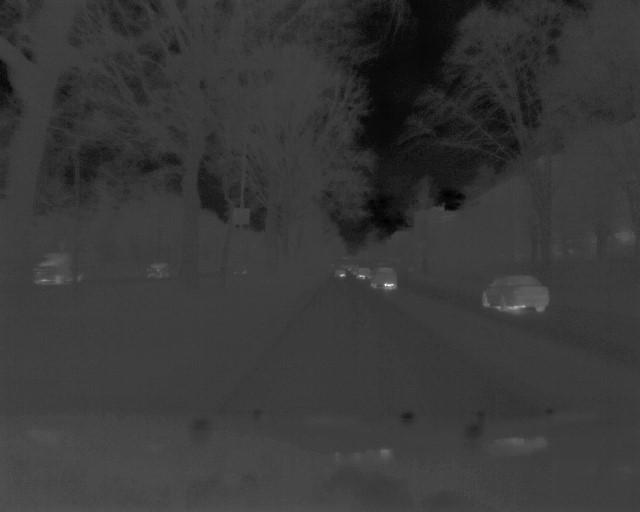car: (477, 268, 553, 315), (26, 246, 92, 289), (143, 255, 175, 283), (368, 265, 399, 289), (355, 264, 370, 281), (332, 266, 347, 281)
